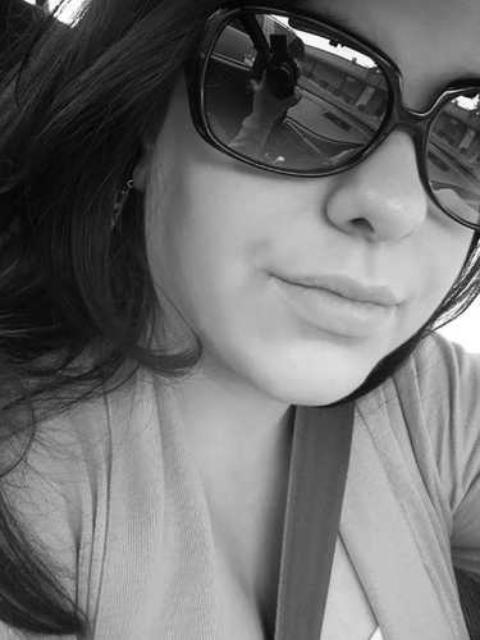Seatbelt: (266, 392, 364, 640)
